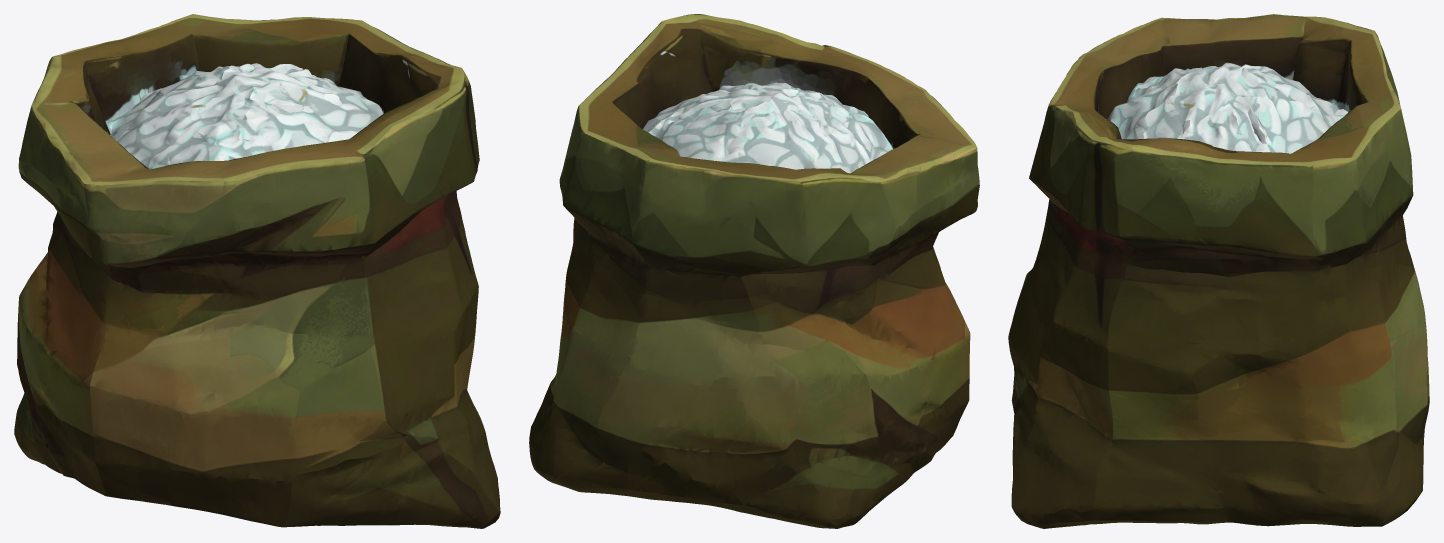
Rendered from item_frost_rice.glb.
The picture shows the model from 3 angles, left to right: view 1: azimuth 30°, elevation 25°; view 2: azimuth 150°, elevation 25°; view 3: azimuth 270°, elevation 25°; orthographic projection. The views are drawn at different scales.
Parts seen in each view (by area): view 1: item_frost_rice; view 2: item_frost_rice; view 3: item_frost_rice.
Part boxes in pixels (left/top/right/bottom): item_frost_rice: left=14, top=14, right=500, bottom=528; item_frost_rice: left=529, top=14, right=979, bottom=528; item_frost_rice: left=1008, top=14, right=1429, bottom=528.
Bounding box in the file's own units: 0.1471 × 0.15 × 0.1464.
1 material, 1 textured.
